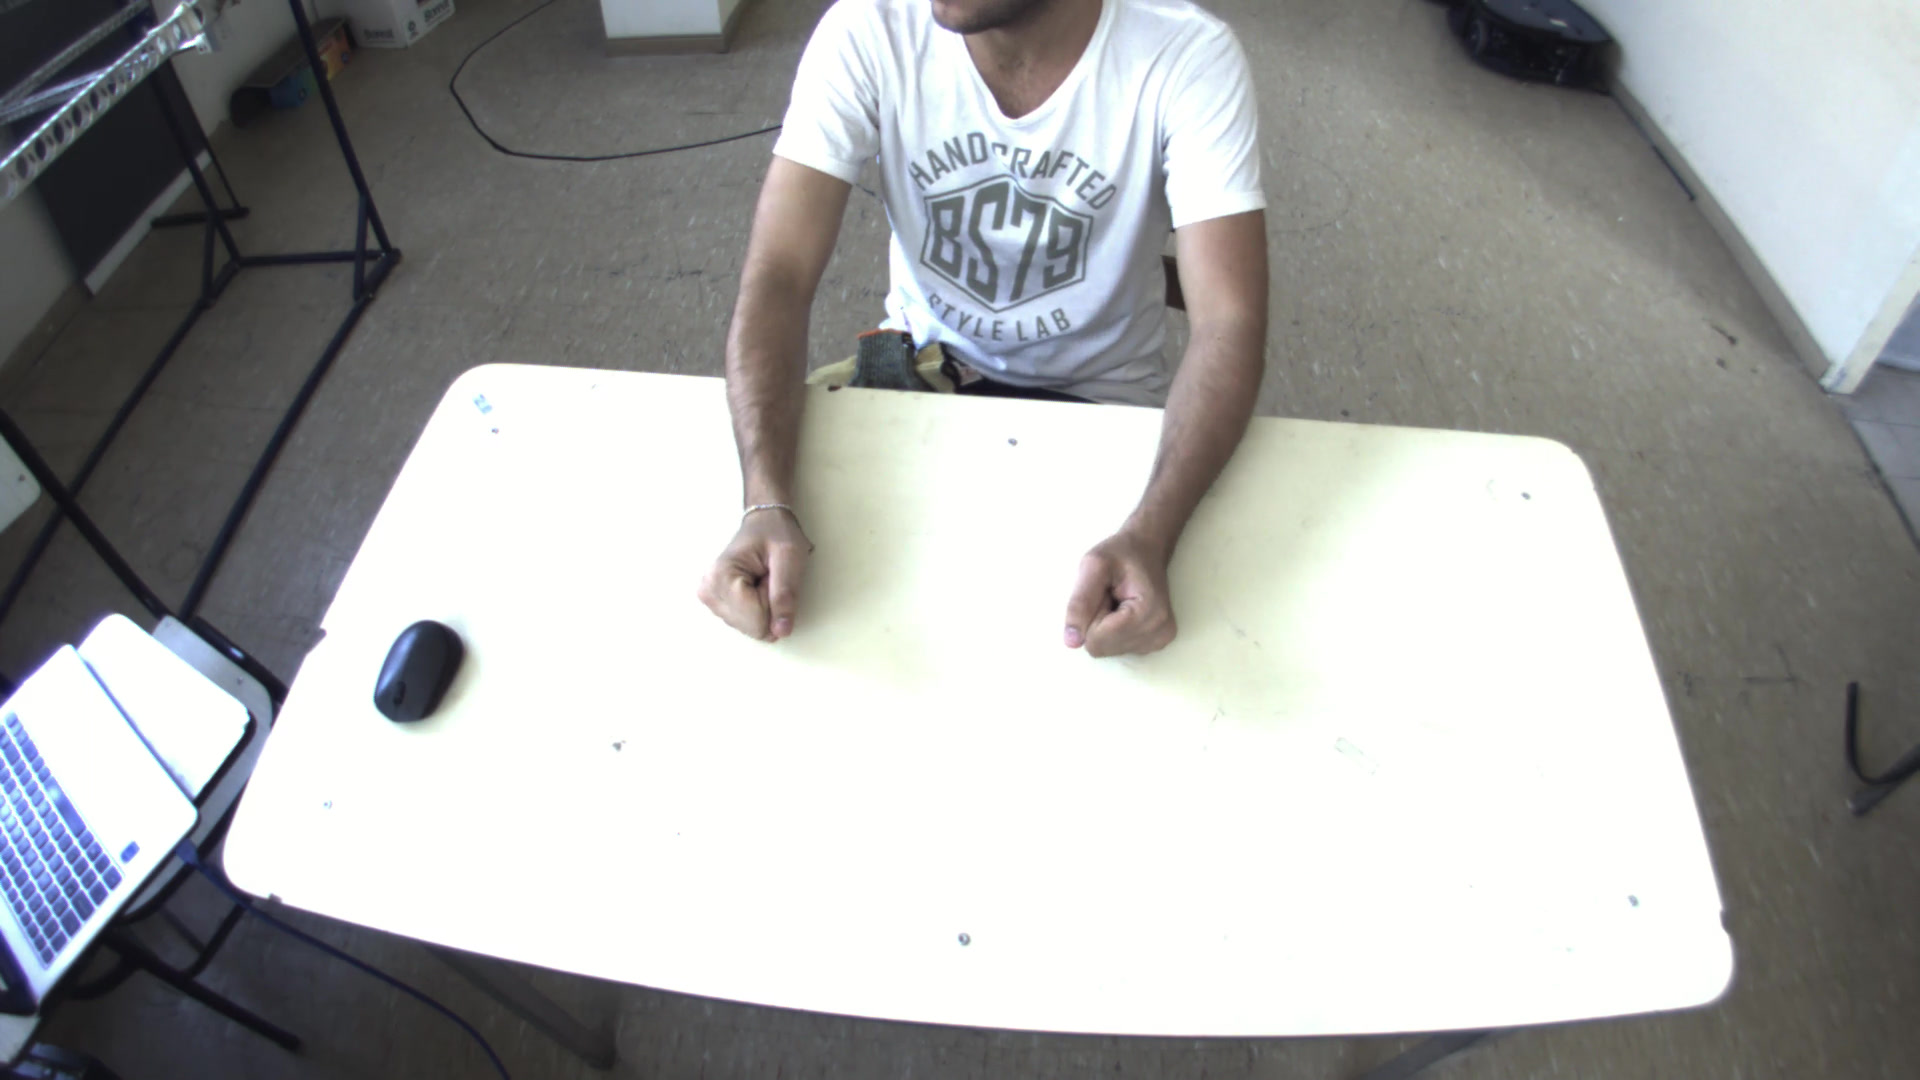hand: (684, 488, 816, 647), (1055, 518, 1197, 659)
